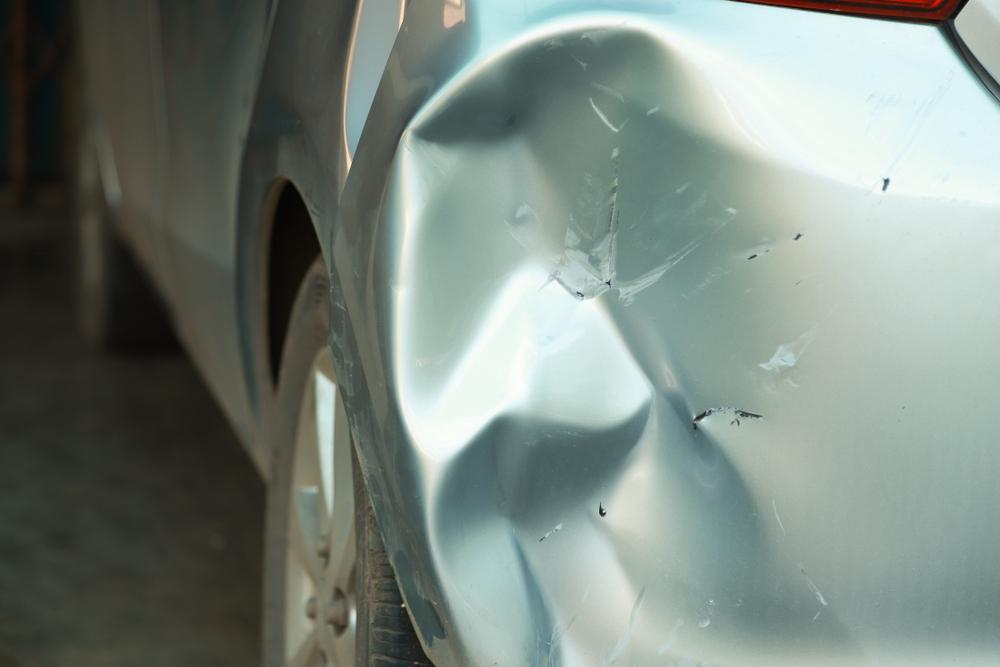dent: (377, 24, 866, 667)
